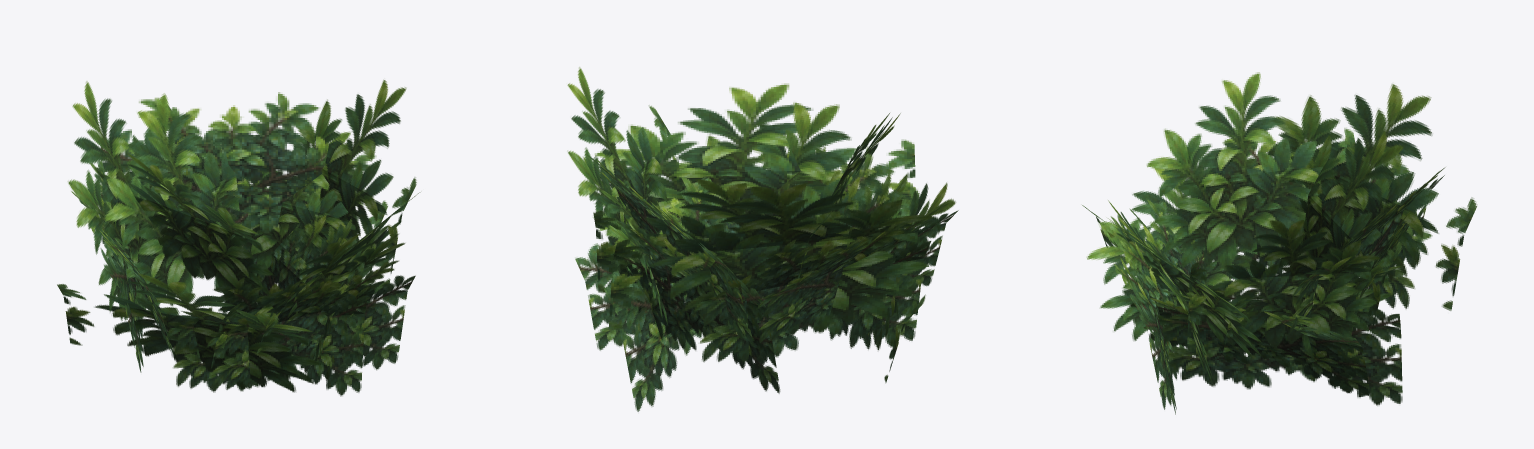
The model's file is shrub.glb.
3 views of the same model, side by side, from view 1: azimuth 30°, elevation 25°; view 2: azimuth 150°, elevation 25°; view 3: azimuth 270°, elevation 25° (orthographic). The views are drawn at different scales.
Visible parts, largest first — view 1: shrub; view 2: shrub; view 3: shrub.
Boxes of the visible parts, x1=… form: shrub: x1=57, y1=80, x2=420, y2=396; shrub: x1=567, y1=67, x2=958, y2=411; shrub: x1=1082, y1=72, x2=1476, y2=414.
Size of the model in its own units: 2 by 1.33 by 2.05.
1 material, 1 textured.
